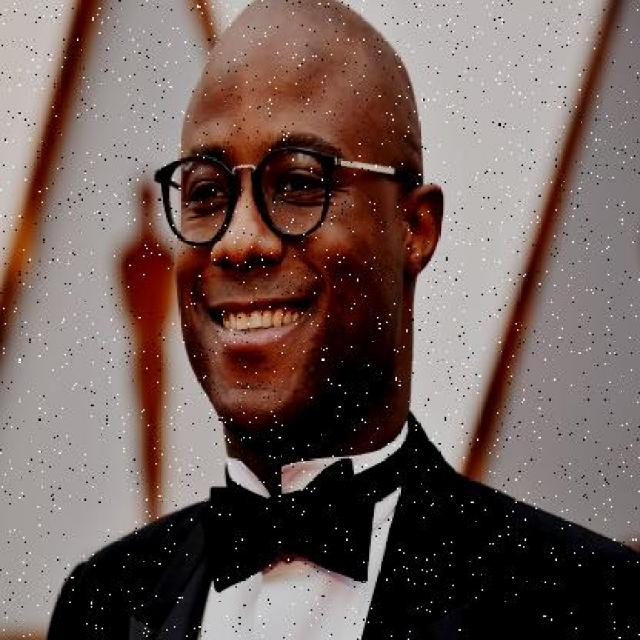glasses: (147, 140, 347, 255)
